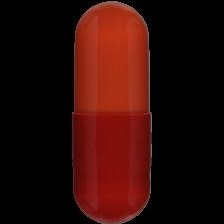55111-355: (0, 0, 224, 224)
